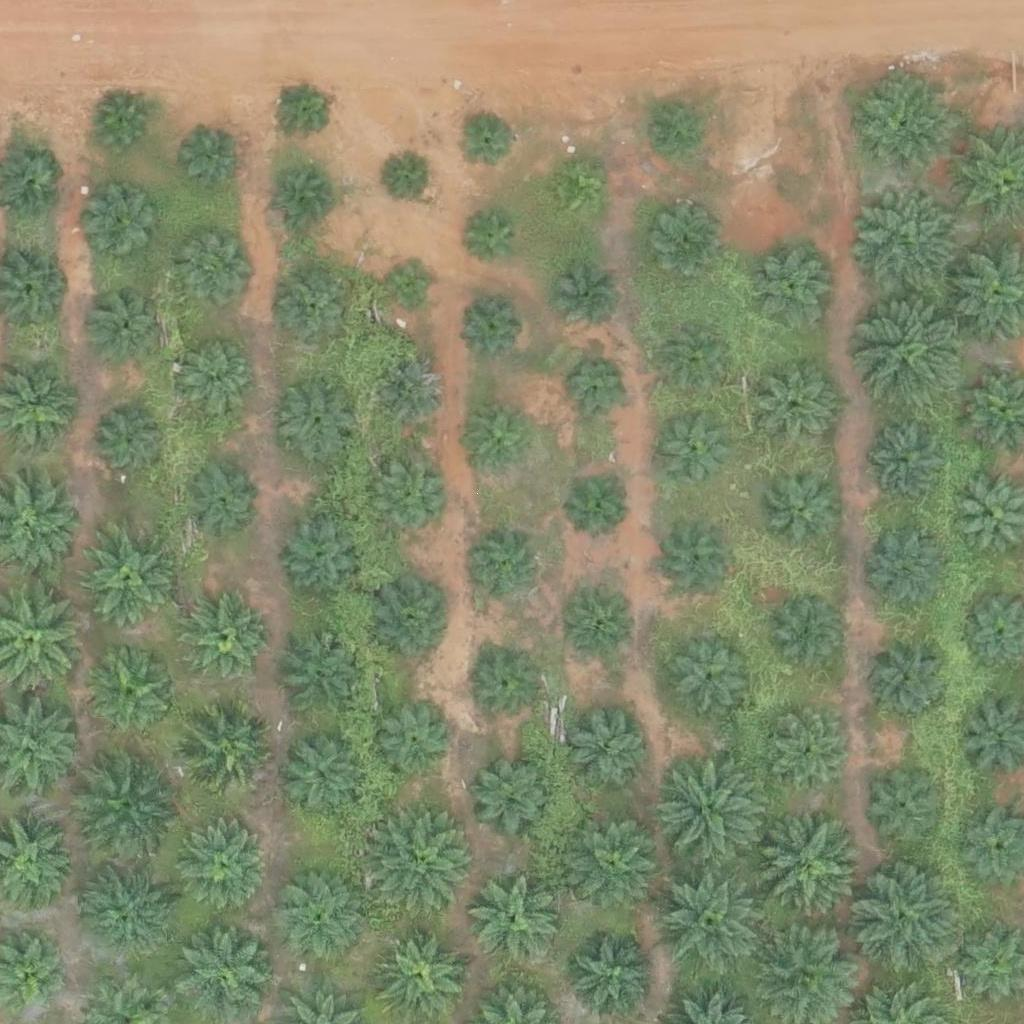Kelapa_Sawit: (854, 188, 967, 302), (860, 295, 973, 409), (651, 753, 764, 866), (651, 866, 764, 979), (69, 750, 181, 864), (848, 860, 960, 973), (749, 813, 861, 926), (855, 75, 955, 176), (566, 813, 666, 914), (373, 810, 473, 911), (74, 528, 174, 628), (267, 868, 367, 968), (177, 704, 277, 804), (171, 819, 271, 919), (670, 635, 758, 724), (274, 375, 362, 463), (369, 575, 457, 663), (278, 515, 366, 603), (766, 707, 854, 795), (571, 934, 659, 1022), (466, 752, 554, 840), (470, 878, 558, 966), (87, 652, 175, 740), (81, 869, 169, 957), (561, 705, 648, 794), (870, 635, 957, 723), (183, 596, 270, 684), (278, 634, 365, 722), (376, 931, 463, 1019), (280, 732, 367, 820), (178, 337, 253, 413), (88, 285, 163, 361), (93, 404, 168, 480), (182, 460, 257, 536), (661, 318, 736, 394), (645, 208, 720, 284), (759, 369, 834, 445), (754, 249, 829, 325), (874, 422, 949, 498), (872, 536, 947, 612), (86, 188, 161, 263), (179, 230, 254, 305), (277, 274, 352, 349), (471, 650, 546, 725), (459, 534, 534, 609), (660, 525, 735, 600), (765, 597, 840, 672), (767, 469, 842, 544), (661, 409, 736, 484), (369, 460, 444, 535), (376, 359, 451, 434), (548, 264, 623, 339), (562, 354, 637, 429), (560, 468, 635, 543), (563, 592, 638, 667), (867, 771, 942, 846), (377, 708, 452, 783), (271, 78, 334, 141), (272, 167, 335, 230), (469, 407, 532, 470), (546, 162, 609, 225), (638, 100, 701, 163), (91, 94, 153, 157), (181, 127, 243, 190), (456, 109, 518, 172), (460, 209, 522, 272), (460, 296, 522, 359), (386, 153, 436, 204), (385, 259, 435, 310)
